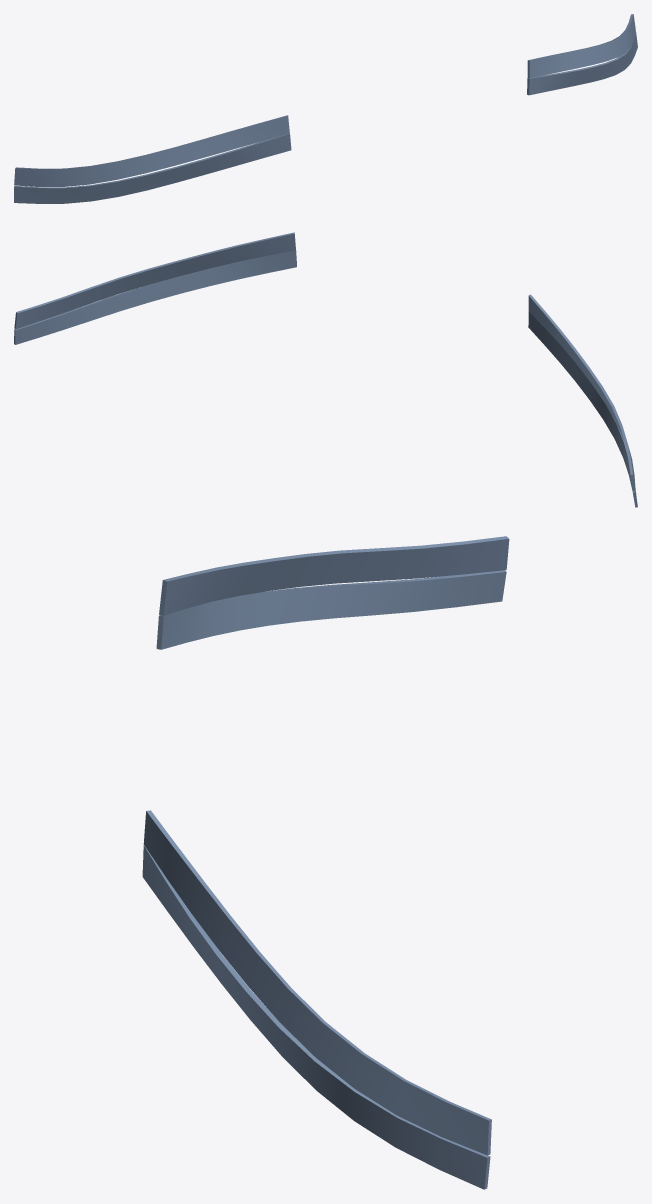
Rendered from SM_CarlosSA_Jacket_WaistPockets_SlantedJetted.fbx.
3 views of the same model, one above another, from view 1: azimuth 30°, elevation 25°; view 2: azimuth 150°, elevation 25°; view 3: azimuth 270°, elevation 25° (orthographic). The views are drawn at different scales.
Visible parts, largest first — view 1: SM_CarlosSA_Jacket_WaistPockets_SlantedJetted; view 2: SM_CarlosSA_Jacket_WaistPockets_SlantedJetted; view 3: SM_CarlosSA_Jacket_WaistPockets_SlantedJetted.
Part boxes in pixels (left/top/right/bottom): SM_CarlosSA_Jacket_WaistPockets_SlantedJetted: left=14, top=14, right=637, bottom=203; SM_CarlosSA_Jacket_WaistPockets_SlantedJetted: left=14, top=232, right=637, bottom=507; SM_CarlosSA_Jacket_WaistPockets_SlantedJetted: left=142, top=536, right=509, bottom=1189.
Size of the model in its own units: 0.3234 by 0.0513 by 0.0828.
